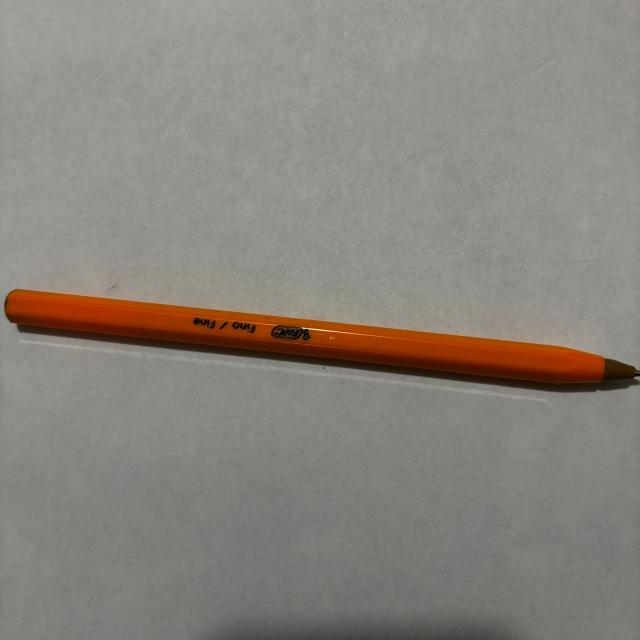pencil: (4, 290, 640, 394)
